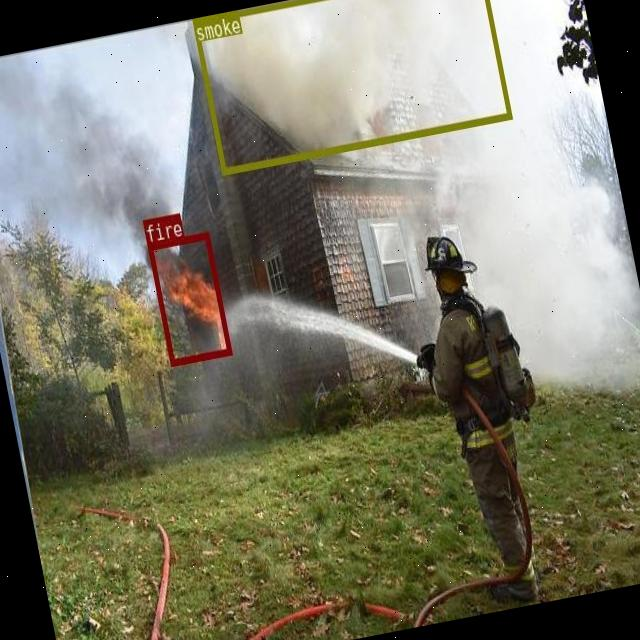fire: (147, 230, 232, 366)
smoke: (191, 0, 511, 173)
